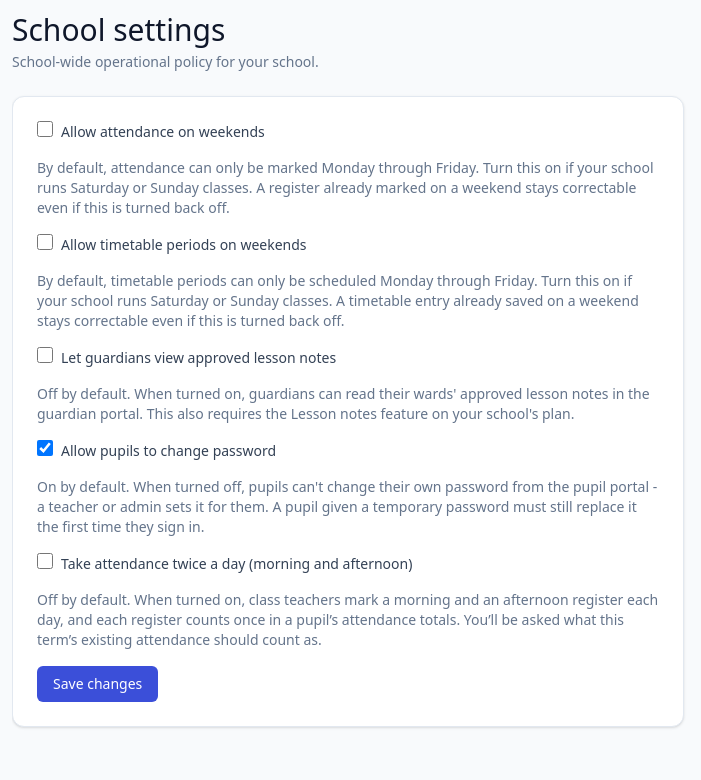
SchoolSettingsPage › toggles the timetable weekend setting independently of the attendance one
Click the checkbox labelled "Allow timetable periods on weekends". click: (45, 242)
box: [37, 234, 53, 250]
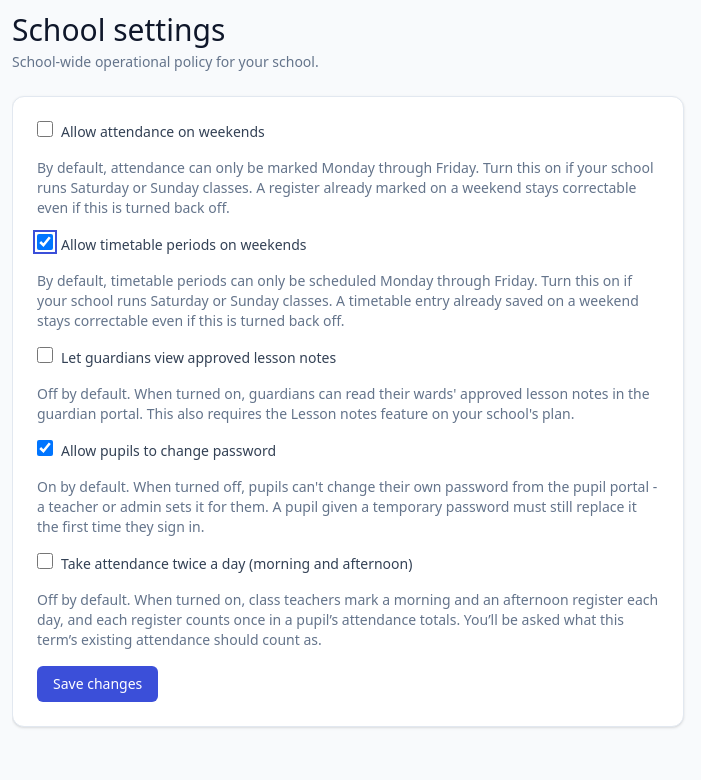
Check: the checkbox labelled "Allow timetable periods on weekends" is checked, box [37, 234, 53, 250]
Click the button "Save changes". click: (98, 684)
box: [37, 666, 158, 702]
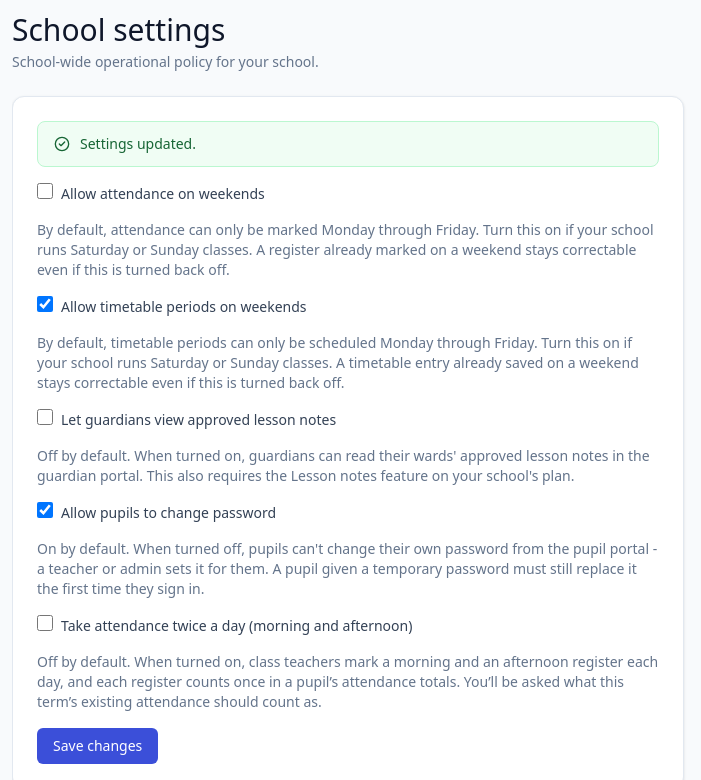
Check: the text "Settings updated." is shown, box [80, 134, 196, 154]
